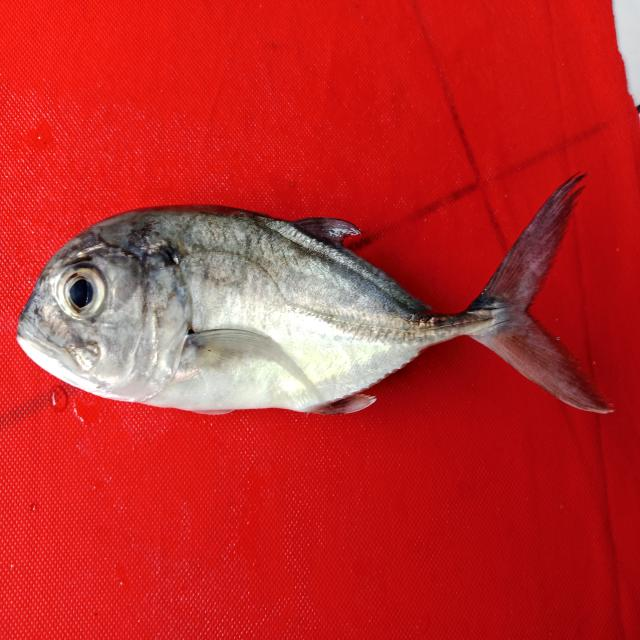ikan: (7, 158, 620, 444)
